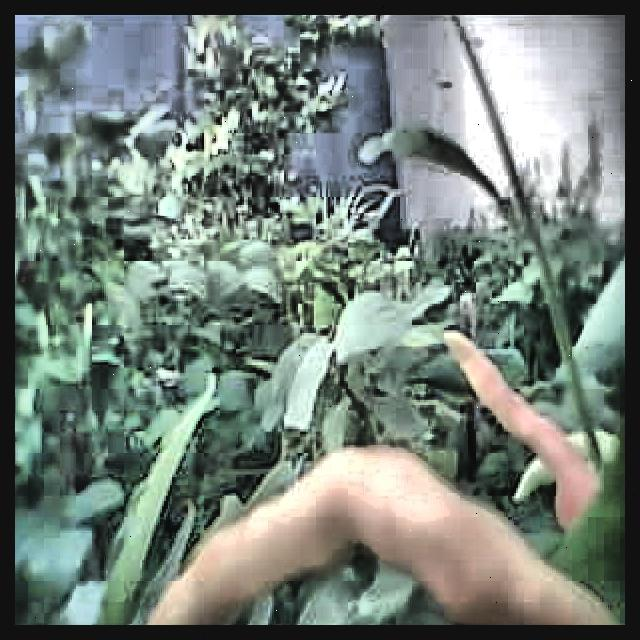Cabai: (177, 465, 594, 625), (440, 338, 593, 480)
